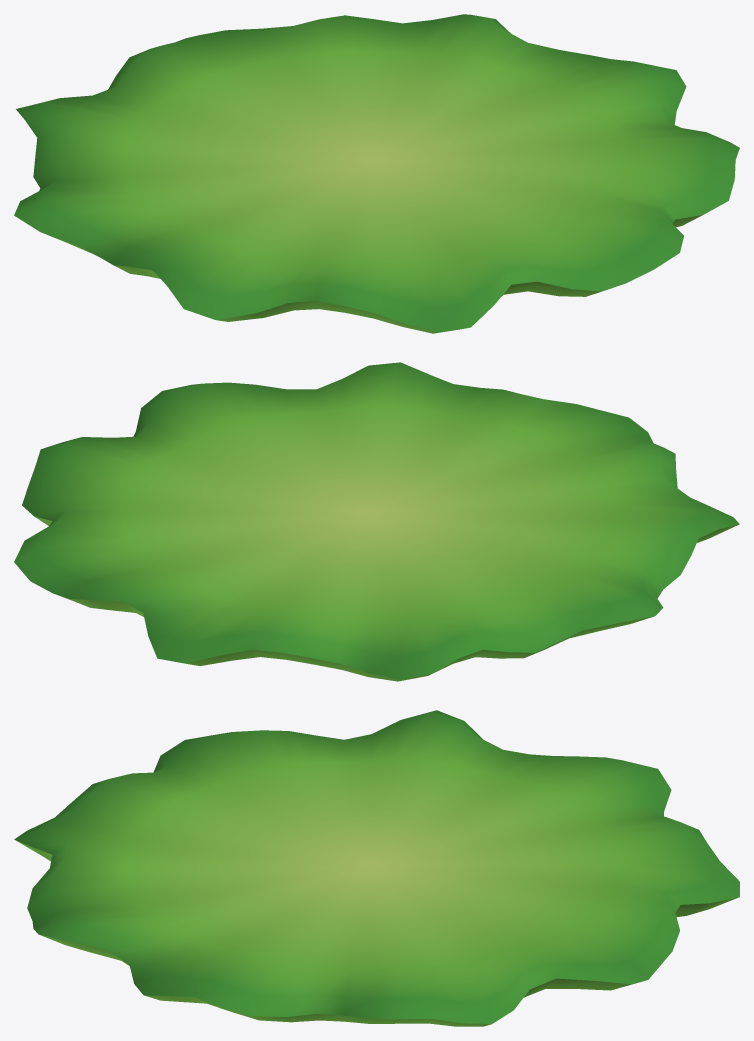
File: lettuce.glb
The picture shows the model from 3 angles, top to bottom: view 1: azimuth 30°, elevation 25°; view 2: azimuth 150°, elevation 25°; view 3: azimuth 270°, elevation 25°; orthographic projection. The views are drawn at different scales.
Parts seen in each view (by area): view 1: body; view 2: body; view 3: body.
Part boxes in pixels (x1=…): body: x1=14, y1=14, x2=739, y2=333; body: x1=14, y1=362, x2=739, y2=681; body: x1=14, y1=710, x2=739, y2=1026.
Size of the model in its own units: 1.15 by 0.08 by 1.14.
